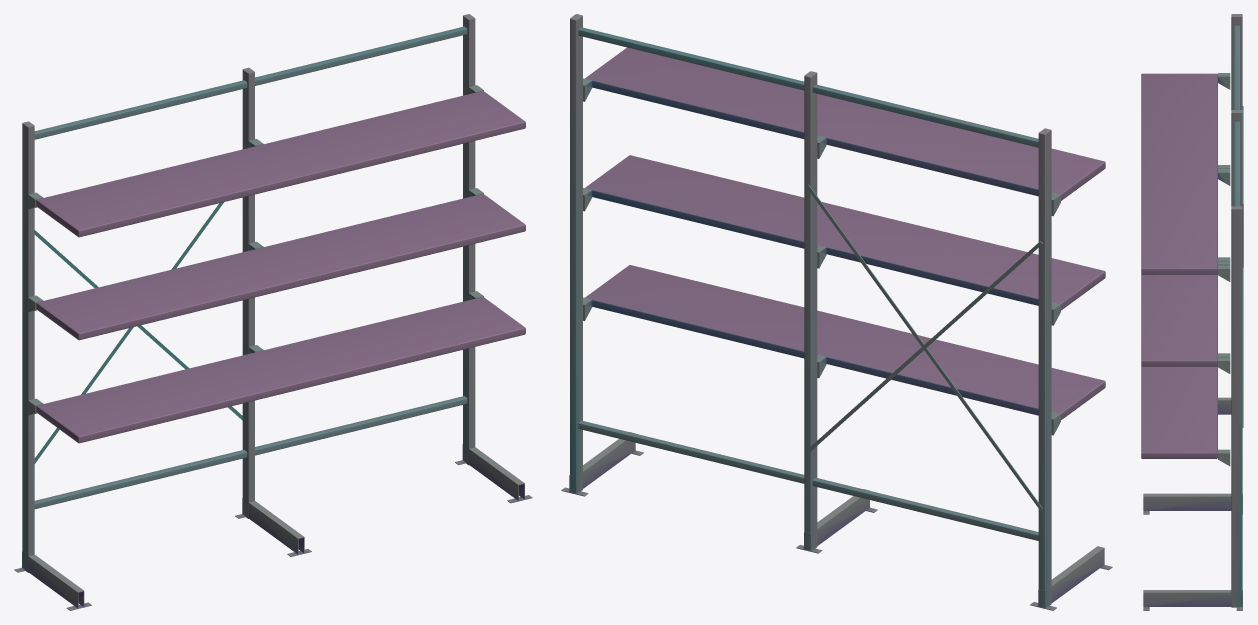
The model's file is simready-rack_f04.glb.
3 renders of one model, left to right at view 1: azimuth 30°, elevation 25°; view 2: azimuth 150°, elevation 25°; view 3: azimuth 270°, elevation 25°, orthographic. The views are drawn at different scales.
Parts seen in each view (by area): view 1: shelf_panel, shelf_panel.002, shelf_panel.001, upright.001, back_rail.001, back_rail, upright.002, upright.003, foot_channel.001, foot_channel.002, foot_channel, diagonal_strap (+1 smaller); view 2: shelf_panel, shelf_panel.001, shelf_panel.002, upright.001, upright.002, upright.003, back_rail.001, back_rail, diagonal_strap, foot_channel.001, foot_channel.002, foot_channel (+1 smaller); view 3: shelf_panel.002, shelf_panel, shelf_panel.001, upright.003, foot_channel, foot_channel.002, back_rail.001, upright.002, upright.001, diagonal_strap.001, foot_channel.001.
Part boxes in pixels (x1,y1,x2,y2): shelf_panel: [28, 291, 525, 443]; shelf_panel.002: [28, 85, 525, 237]; shelf_panel.001: [28, 188, 525, 340]; upright.001: [22, 121, 34, 572]; back_rail.001: [34, 26, 467, 139]; back_rail: [34, 396, 467, 509]; upright.002: [242, 67, 254, 518]; upright.003: [463, 14, 475, 465]; foot_channel.001: [14, 552, 91, 610]; foot_channel.002: [455, 444, 532, 503]; foot_channel: [235, 498, 311, 556]; diagonal_strap: [34, 202, 223, 463]; shelf_panel: [583, 265, 1105, 435]; shelf_panel.001: [583, 155, 1105, 325]; shelf_panel.002: [583, 47, 1105, 216]; upright.001: [1038, 128, 1051, 607]; upright.002: [804, 71, 817, 550]; upright.003: [570, 14, 582, 493]; back_rail.001: [578, 27, 1038, 147]; back_rail: [578, 420, 1038, 540]; diagonal_strap: [806, 184, 1042, 510]; foot_channel.001: [1030, 546, 1112, 610]; foot_channel.002: [561, 432, 643, 496]; foot_channel: [796, 489, 877, 553]; shelf_panel.002: [1141, 73, 1230, 281]; shelf_panel: [1141, 257, 1230, 466]; shelf_panel.001: [1141, 165, 1230, 373]; upright.003: [1231, 206, 1242, 607]; foot_channel: [1143, 493, 1242, 514]; foot_channel.002: [1143, 590, 1242, 610]; back_rail.001: [1234, 25, 1239, 206]; upright.002: [1231, 110, 1242, 206]; upright.001: [1231, 14, 1242, 110]; diagonal_strap.001: [1242, 106, 1243, 427]; foot_channel.001: [1218, 397, 1231, 414].
Bounding box in the file's own units: 2.12 × 1.95 × 0.4535.
